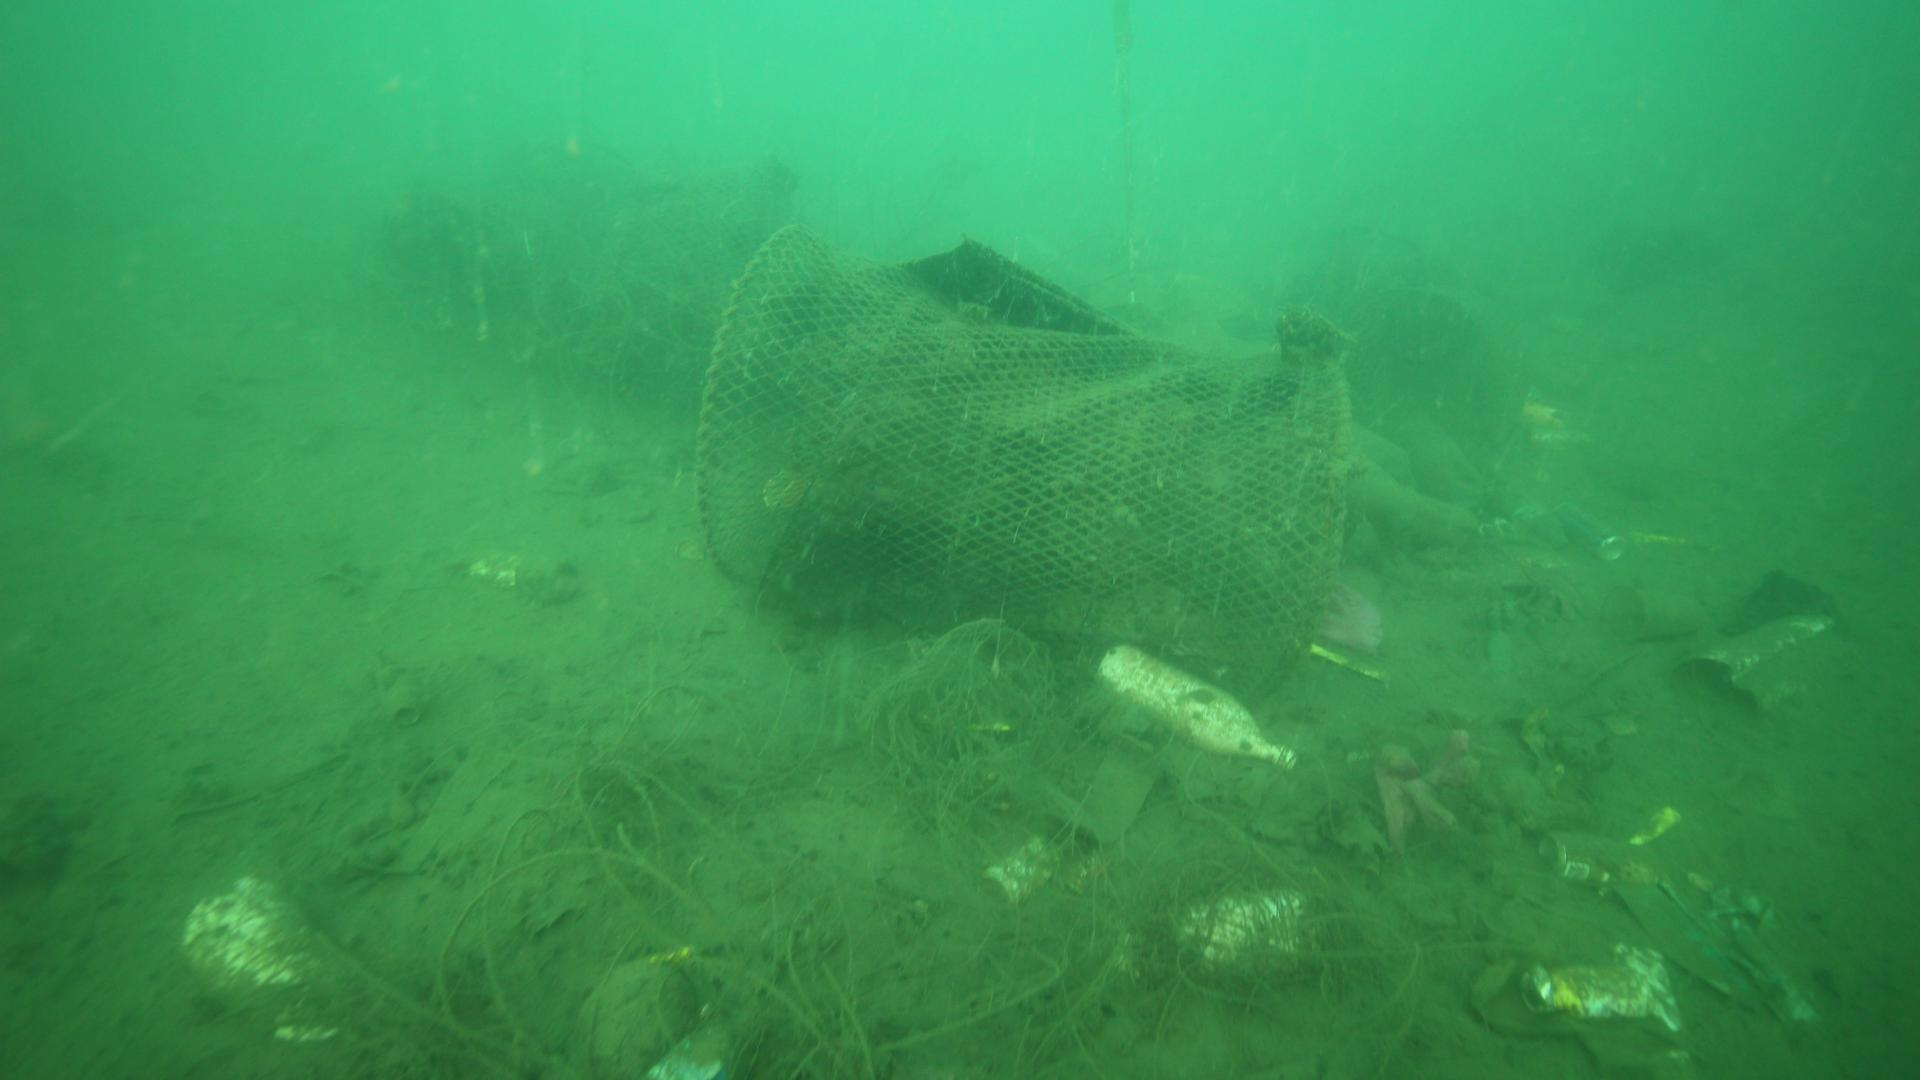spring fish trap: (692, 218, 1356, 702)
